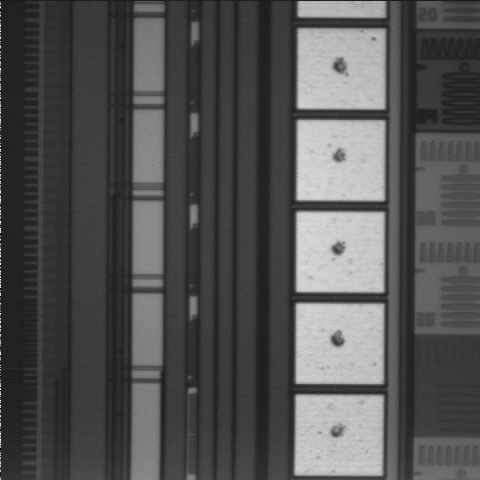pad: (297, 120, 384, 200), (297, 212, 384, 292), (296, 304, 383, 384), (295, 396, 383, 475), (298, 29, 384, 109)
